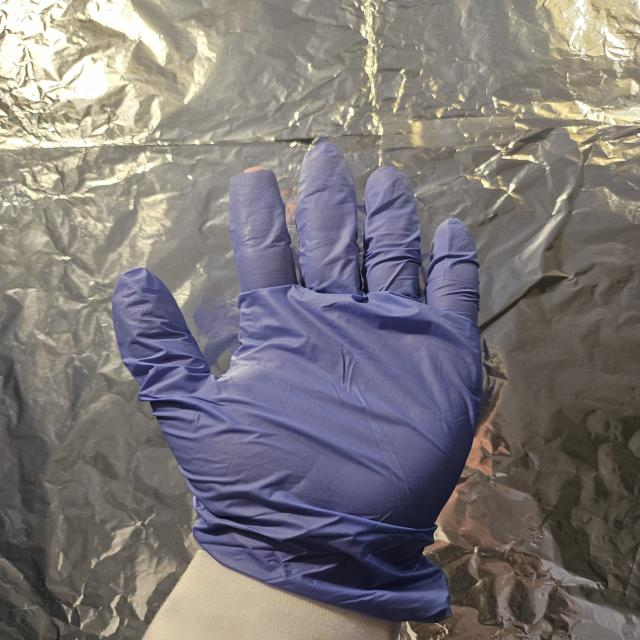gloves_damaged: (112, 140, 485, 627)
